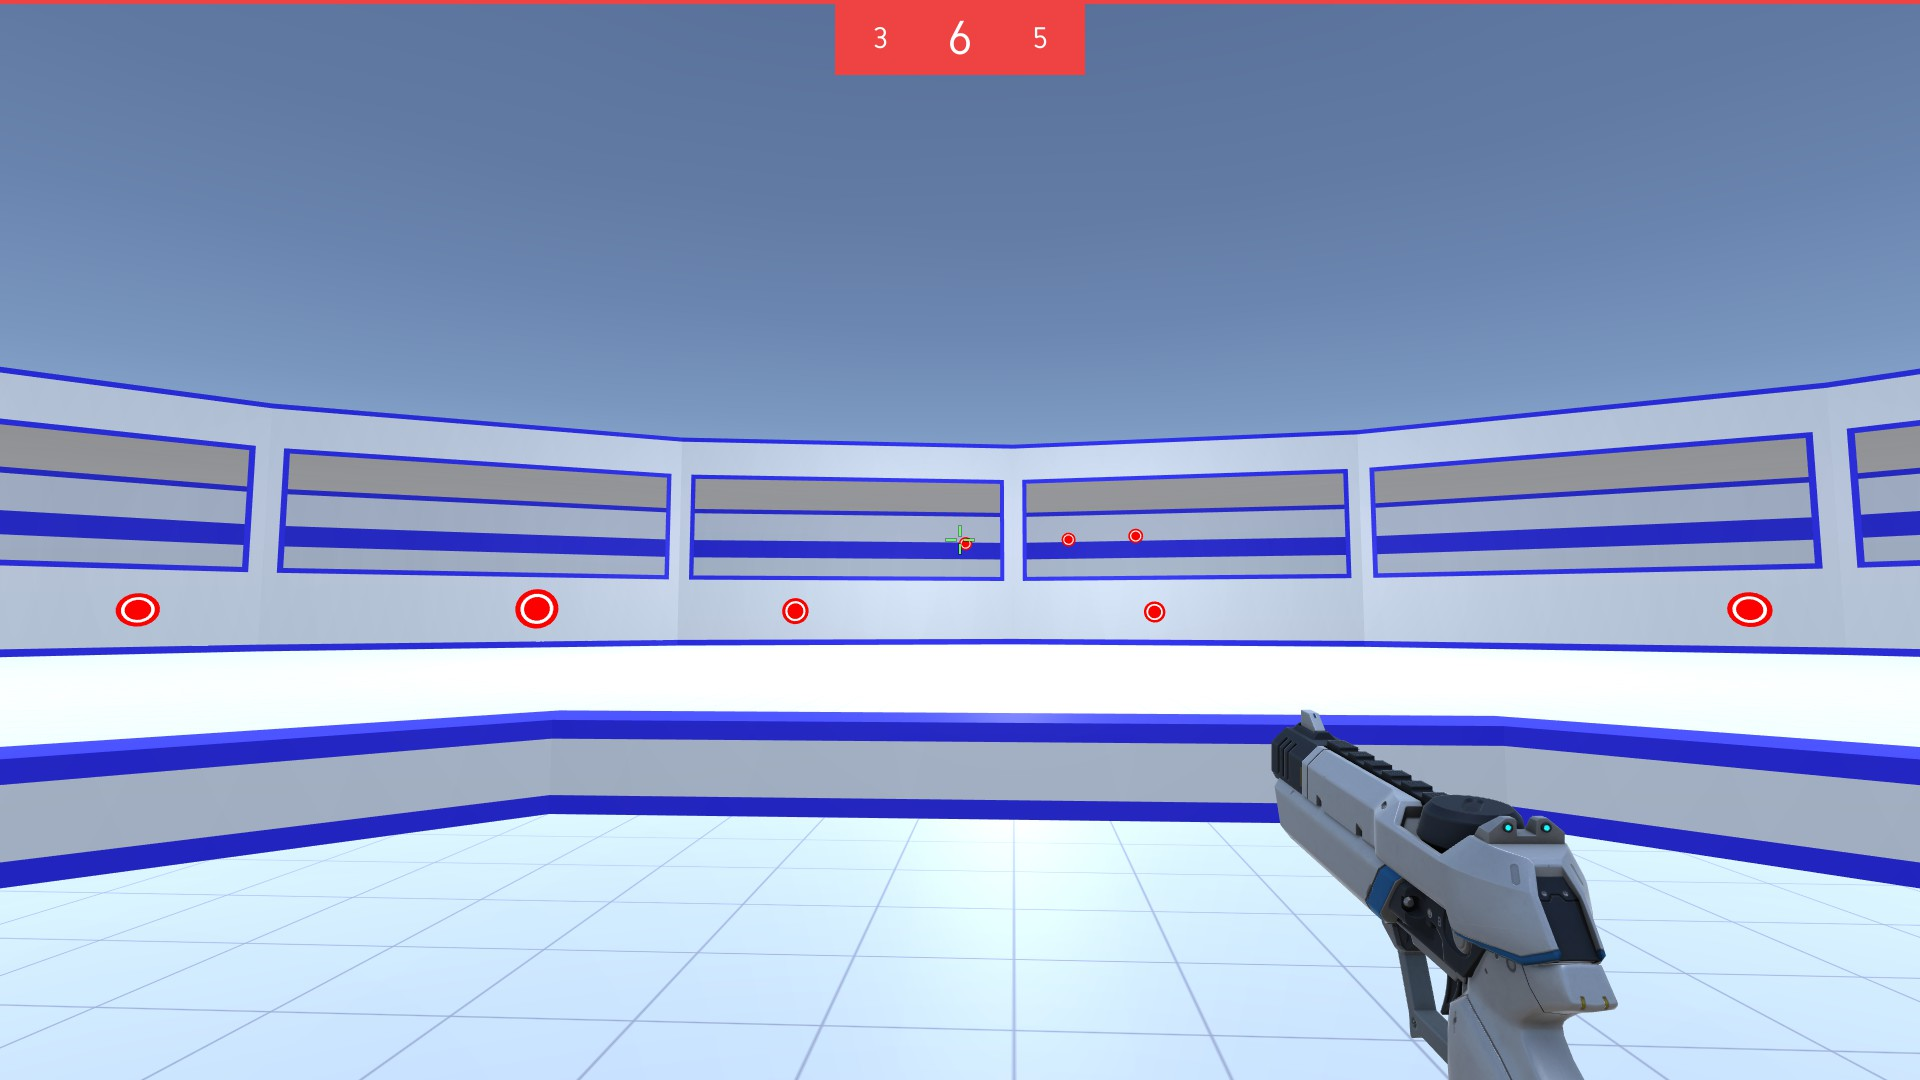target: (513, 589, 562, 628), (113, 592, 165, 628), (1726, 592, 1772, 630), (781, 597, 810, 625), (1143, 600, 1168, 624), (1060, 531, 1077, 549), (1127, 527, 1145, 543), (957, 535, 975, 550)
